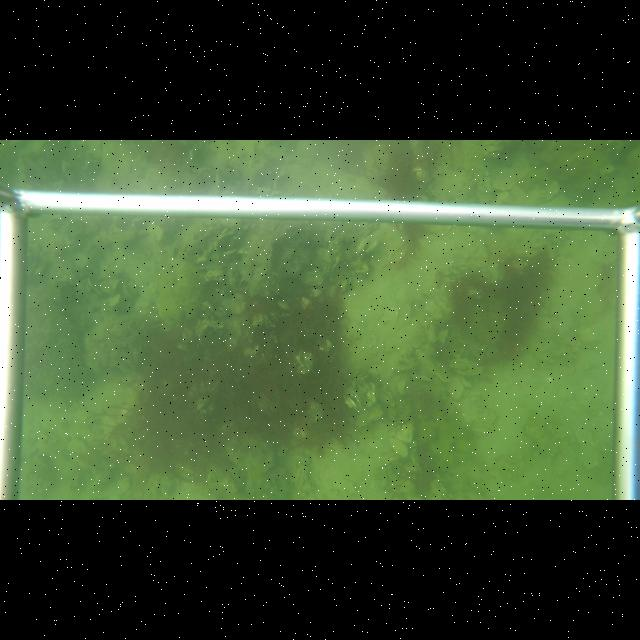Oyster-Closed: (389, 437, 409, 457), (195, 256, 208, 264)
Oyster-Open: (356, 235, 379, 259), (345, 388, 364, 411), (222, 248, 239, 259)
